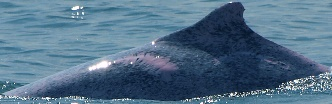fin: (7, 1, 329, 104)
